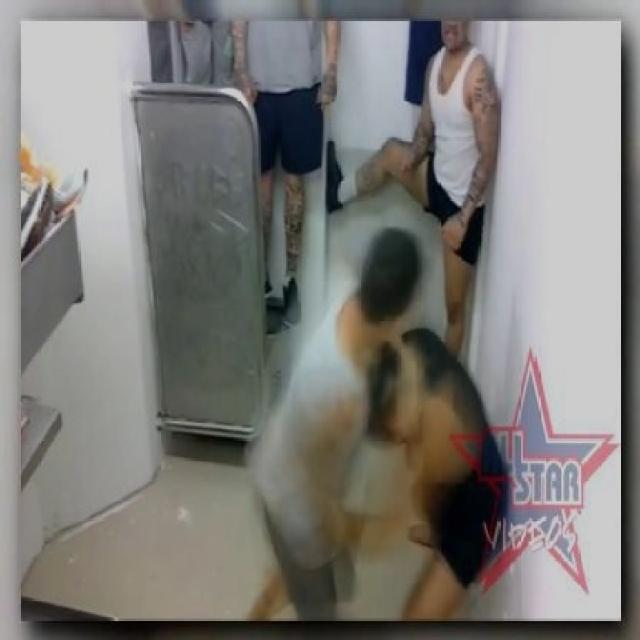fight: (242, 221, 478, 617)
non-fight: (317, 15, 508, 368), (212, 4, 341, 338)
